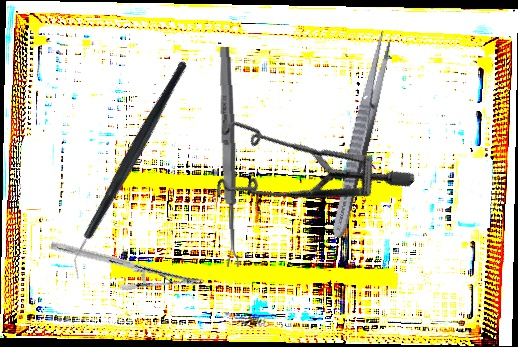Chopper: (11, 58, 248, 283)
Dressing Forceps: (327, 29, 396, 240)
Needle Holder: (48, 206, 205, 322)
Speculum: (183, 58, 418, 287)
Surgical Spoon: (217, 46, 240, 268)
